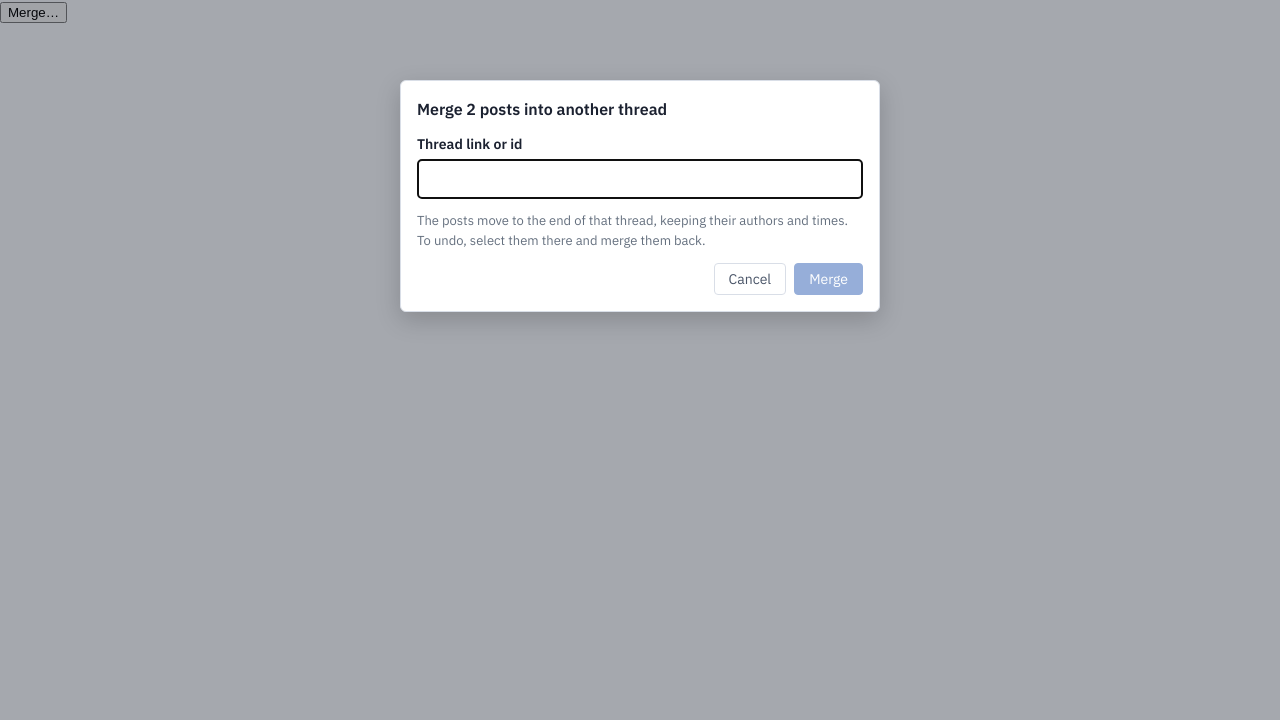
the merge dialog › says why a not-found refusal was given, and keeps what was typed
The width and height of the screenshot is (1280, 720).
Type "3yymw47g00042" into the field labelled "Thread link or id".
click(640, 179); type("3yymw47g00042")  # box [417,160,863,199]
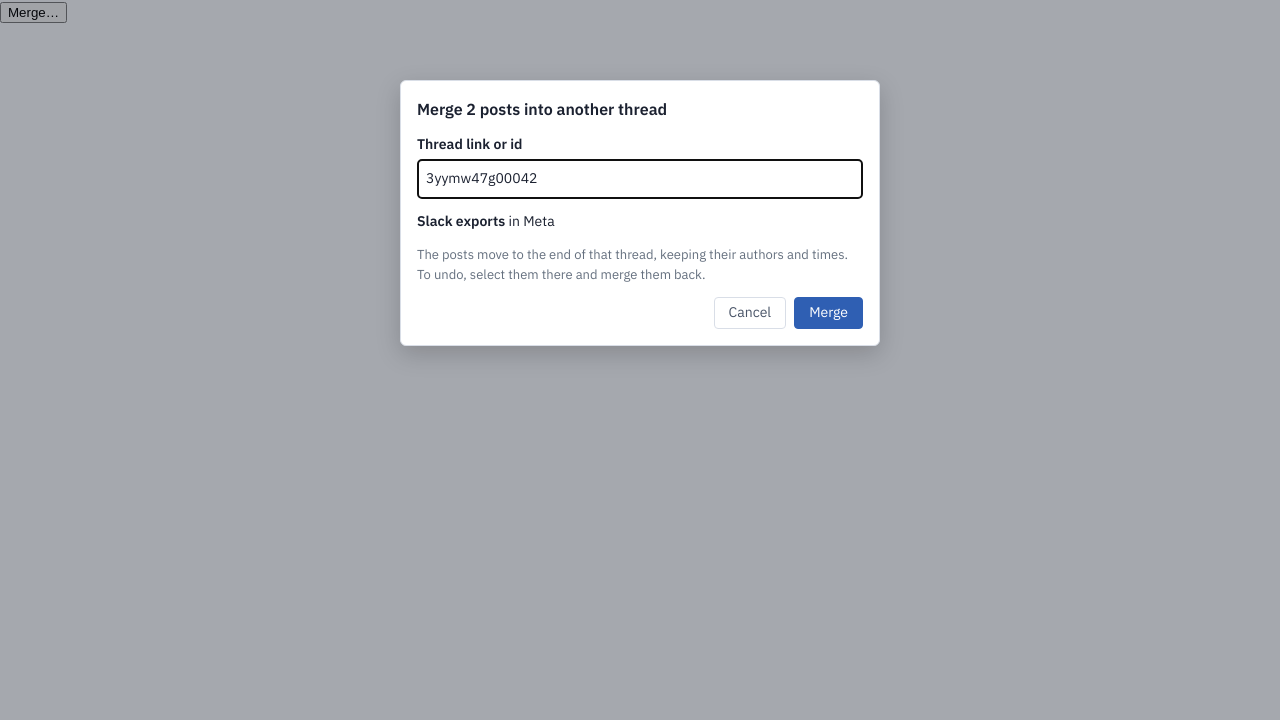
Click the button with class "flag-send".
click(829, 313)  # box [794,297,863,329]
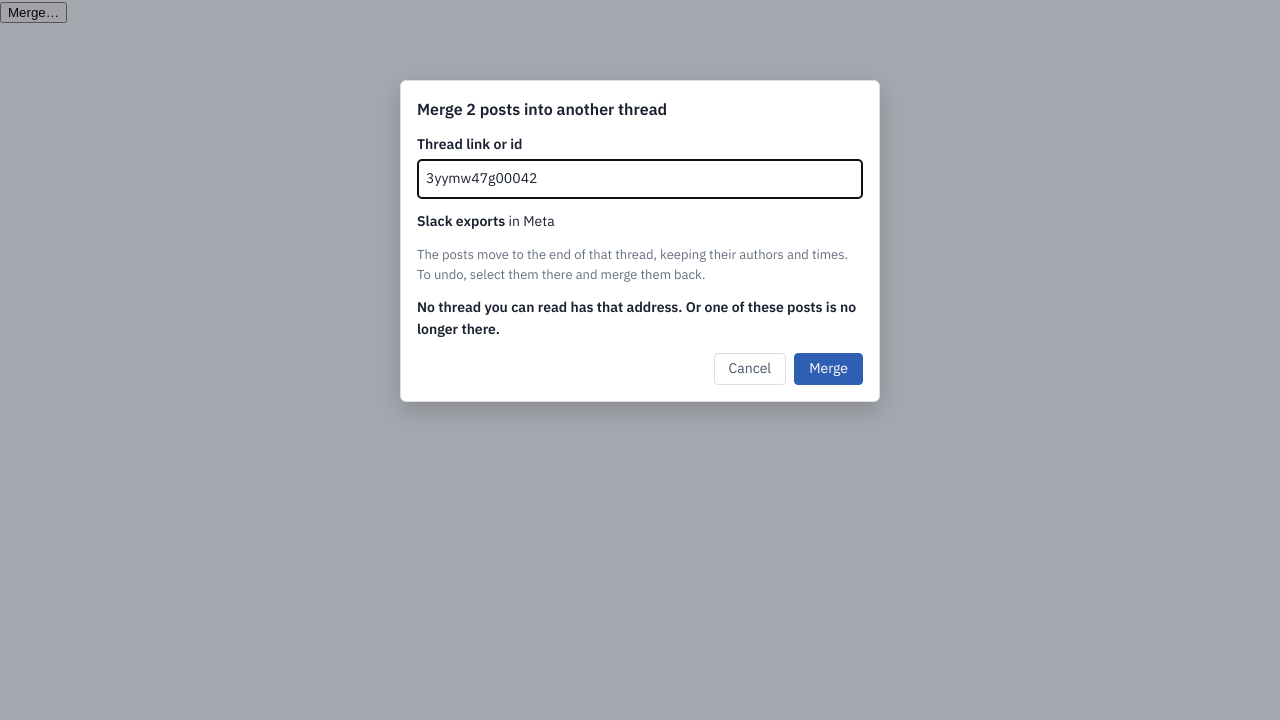
Check: the message shows "No thread you can read has that address. Or one of these posts is no longer there.", box [417,298,856,338]
